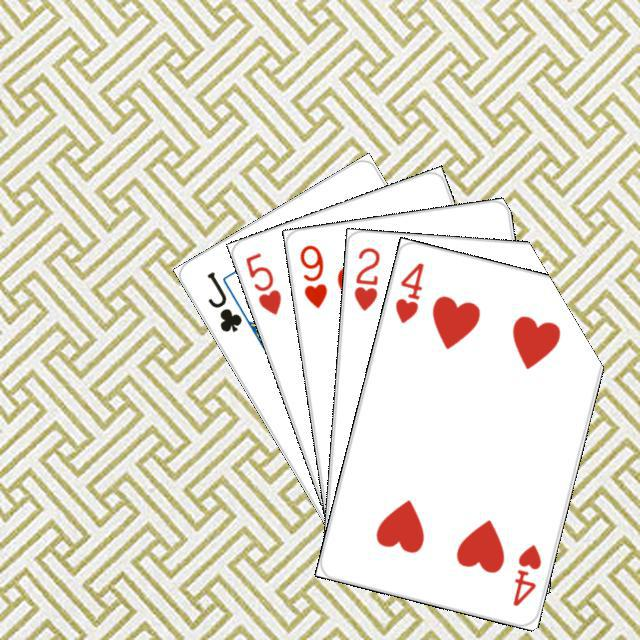2h: (349, 242, 382, 312)
4h: (390, 257, 426, 325), (508, 539, 543, 608)
5h: (240, 247, 283, 317)
9h: (294, 239, 329, 311)
Jc: (201, 266, 244, 334)
